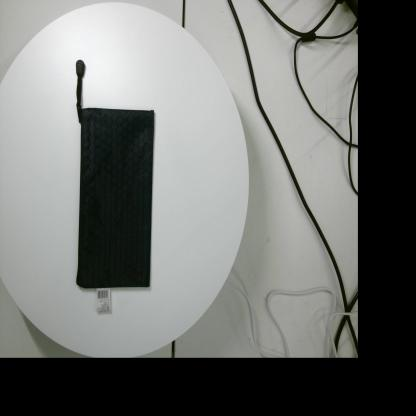Stationery: (76, 60, 154, 314)
